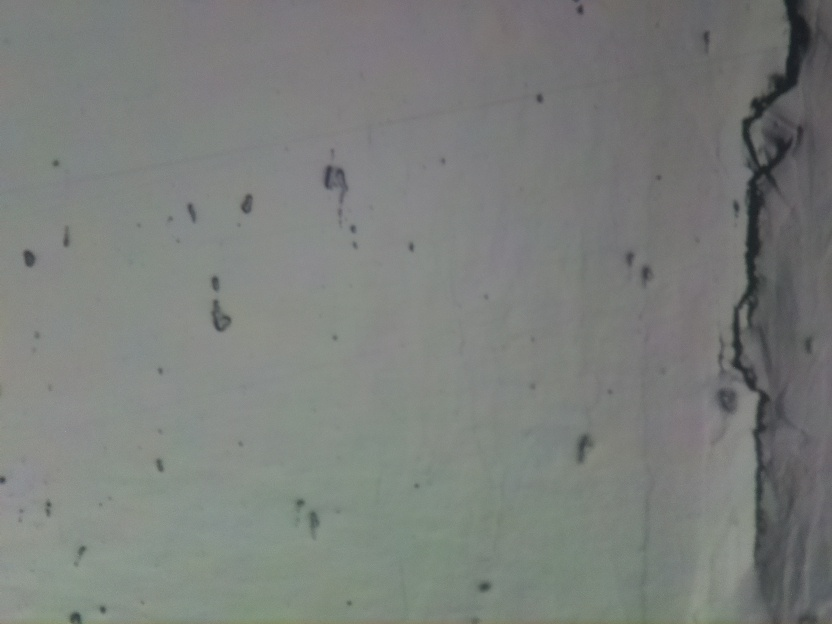crack: (735, 0, 809, 562)
